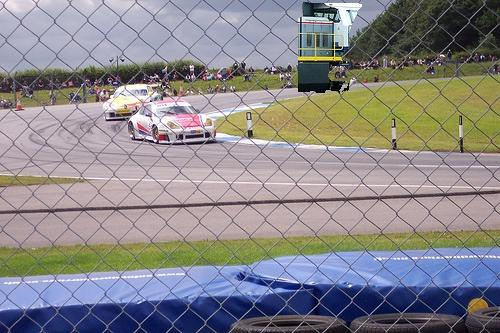tampered: (299, 3, 362, 93)
